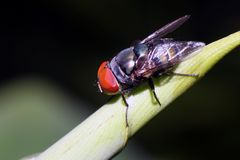green bottles flies: (82, 5, 214, 132)
